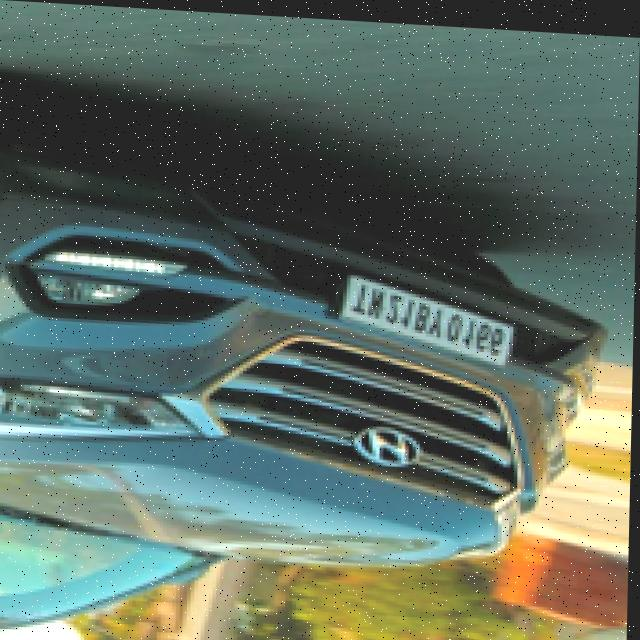plate: (332, 270, 519, 365)
